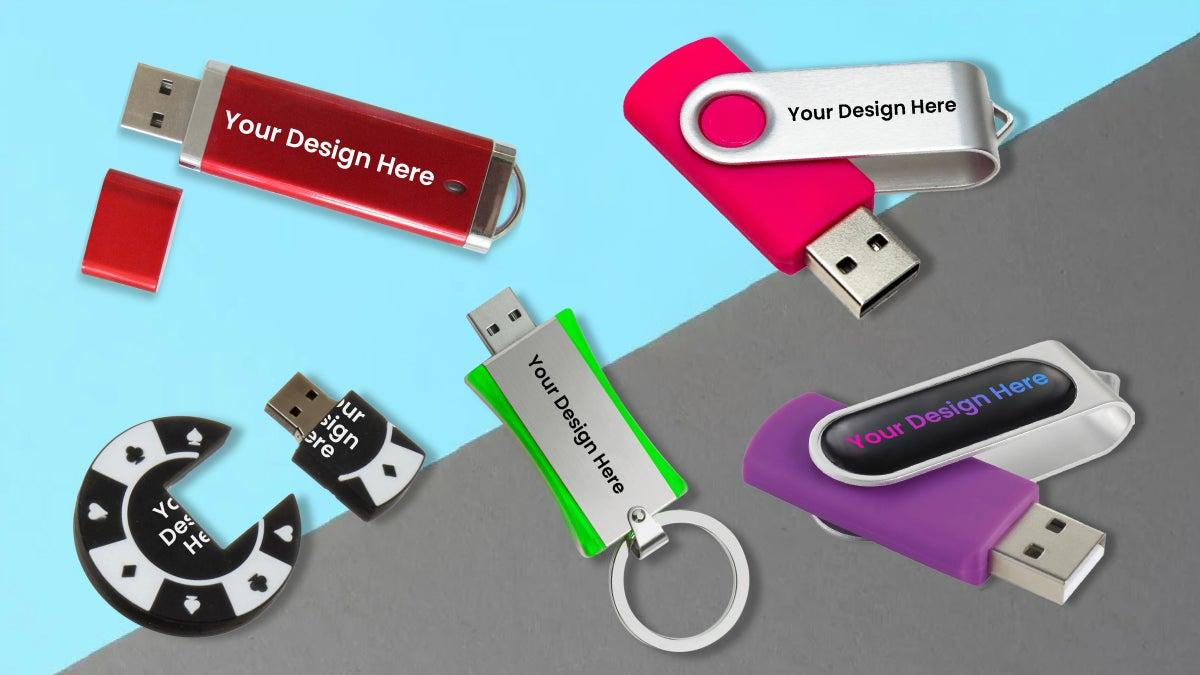USB Flash Drive: (622, 37, 1001, 320), (120, 61, 528, 255)
